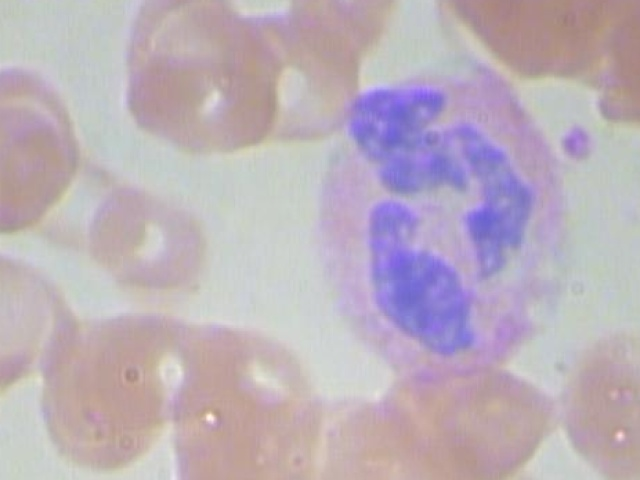Platelets: (550, 111, 603, 178)
RBC: (119, 0, 282, 154), (30, 319, 162, 476), (232, 0, 364, 140), (21, 132, 146, 252), (92, 184, 218, 303), (117, 0, 248, 112), (557, 327, 640, 480), (0, 95, 82, 244), (314, 388, 446, 480), (0, 48, 86, 168), (0, 235, 63, 383), (426, 0, 577, 59), (589, 0, 640, 154), (427, 441, 603, 480), (286, 0, 417, 52), (0, 126, 23, 244)
WBC: (298, 60, 570, 383)
